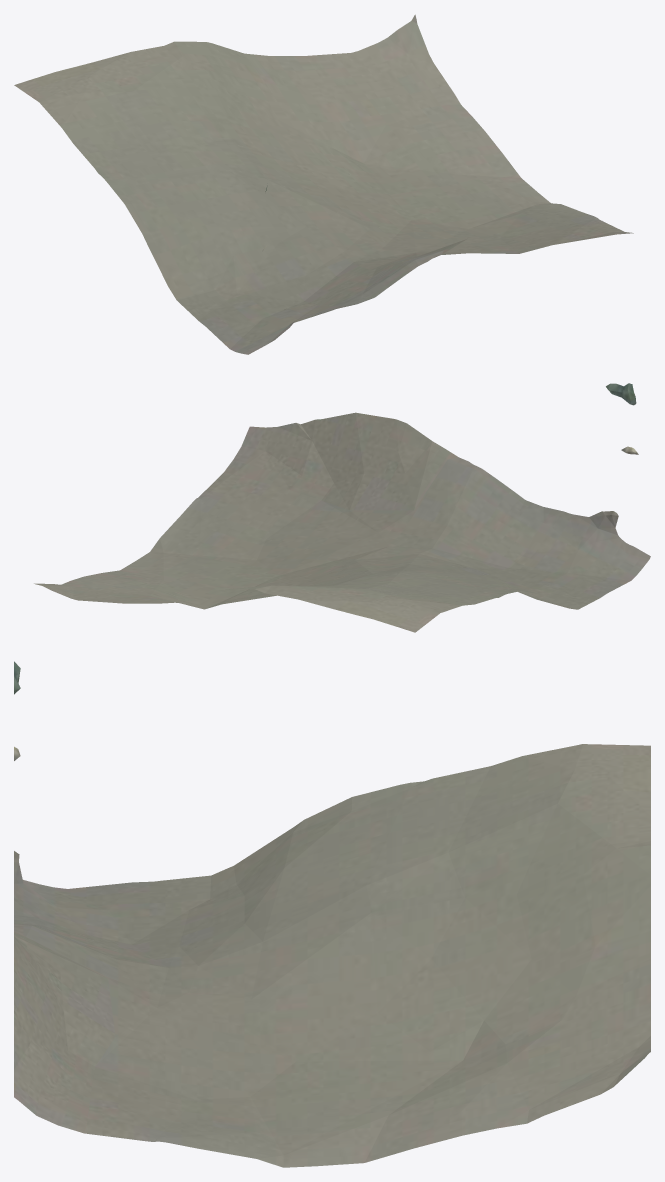
Rendered from Tile_+003_+004_L20_000010.glb.
3 renders of one model, top to bottom at view 1: azimuth 30°, elevation 25°; view 2: azimuth 150°, elevation 25°; view 3: azimuth 270°, elevation 25°, orthographic. The views are drawn at different scales.
Visible parts, largest first — view 1: rtc; view 2: rtc; view 3: rtc.
Part boxes in pixels (left/top/right/bottom): rtc: left=14, top=14, right=633, bottom=354; rtc: left=34, top=383, right=650, bottom=632; rtc: left=14, top=661, right=650, bottom=1167.
Bounding box in the file's own units: 25.25 × 11.32 × 25.69.
Materials: 1 (1 with a texture image).
